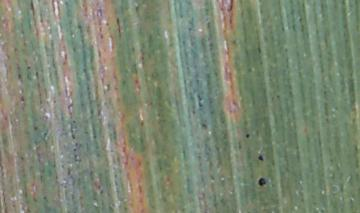tarspot: (113, 16, 123, 37), (257, 177, 267, 187), (29, 1, 35, 16), (200, 121, 209, 130), (31, 124, 40, 133), (243, 132, 251, 140), (257, 154, 264, 161)
